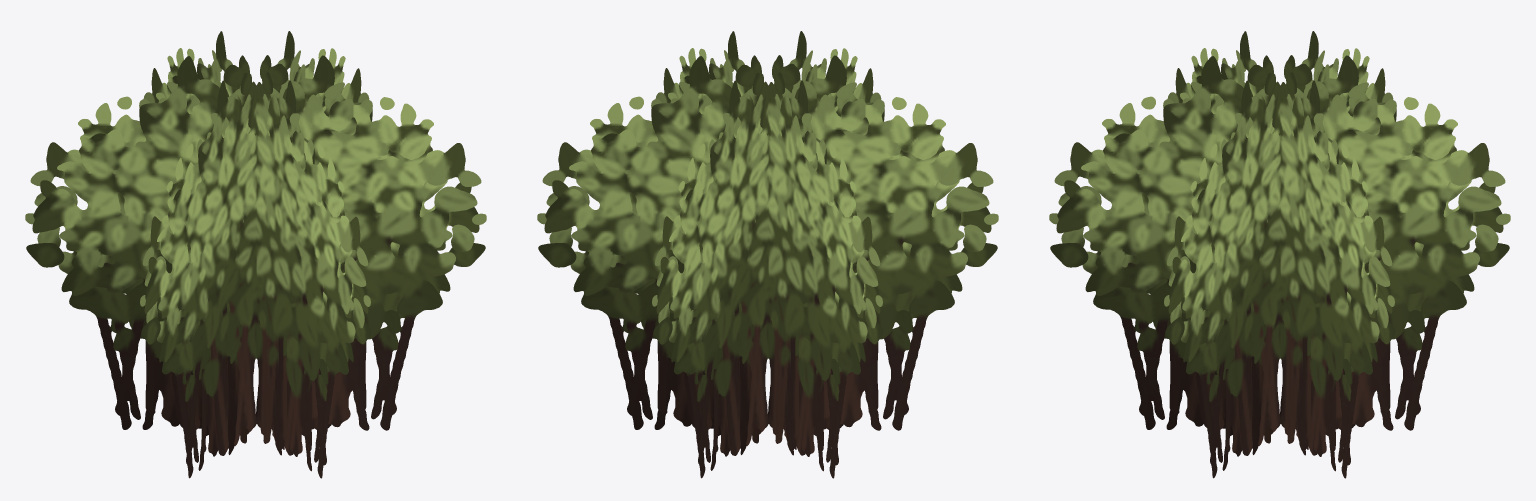
Rendered from painted-bush-013.glb.
3 views of the same model, side by side, from view 1: azimuth 30°, elevation 25°; view 2: azimuth 150°, elevation 25°; view 3: azimuth 270°, elevation 25° (orthographic).
Size of the model in its own units: 8.74 by 9.27 by 10.07.
Materials: 1 (1 with a texture image).
